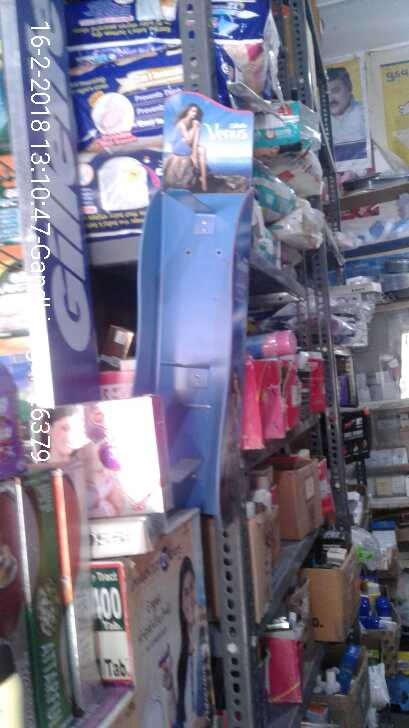reject: (156, 283, 223, 373)
